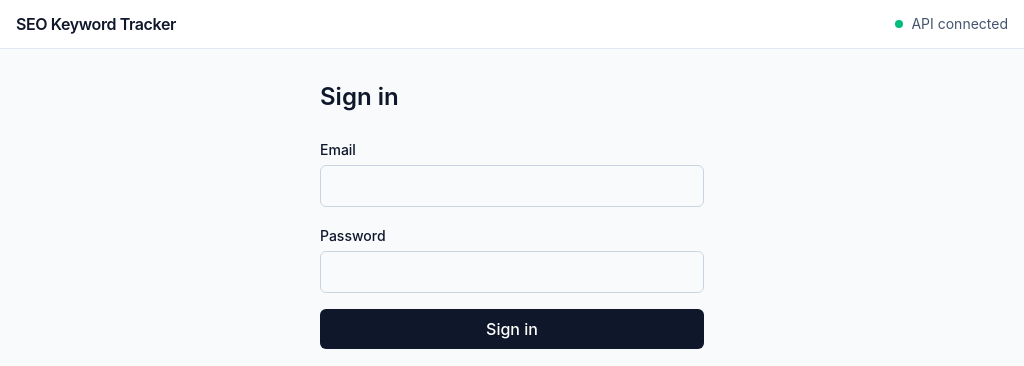
Test: sign in › sends a signed-out visitor to login and back to the page they wanted
The width and height of the screenshot is (1024, 366).
Expected: the heading "Sign in" is shown, [320,82,399,111]
Type "alice@agency.test" into the field labelled "Email".
click(512, 186); type("alice@agency.test")  # box [320,165,704,207]
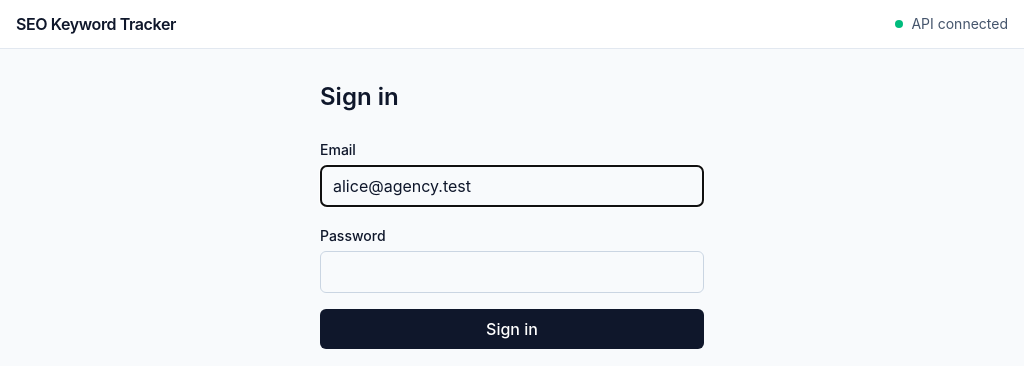
Type "demo-password" into the password field labelled "Password".
click(512, 272); type("demo-password")  # box [320,251,704,293]
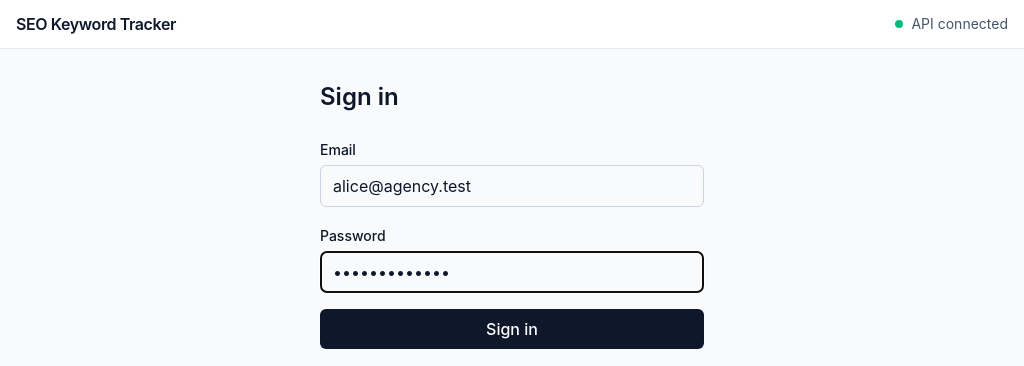
Click the button "Sign in".
click(512, 329)  # box [320,309,704,349]
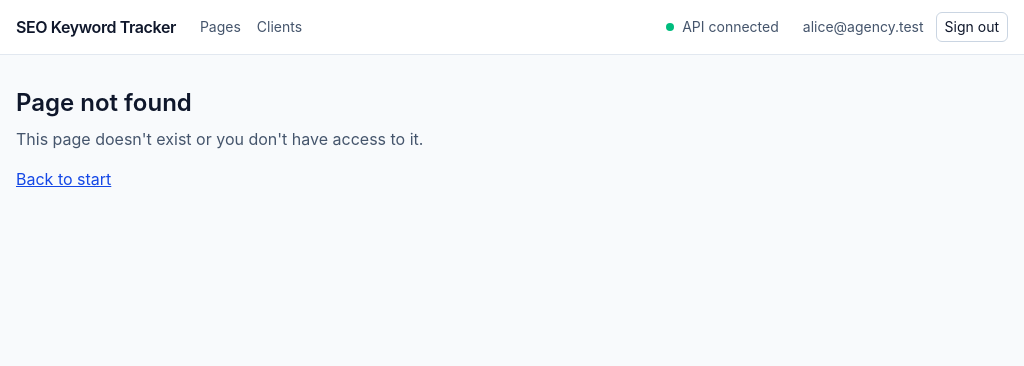
Now the heading "Page not found" is shown, box [16,88,192,117]
Now the text "alice@agency.test" is shown, box [803,17,924,37]
